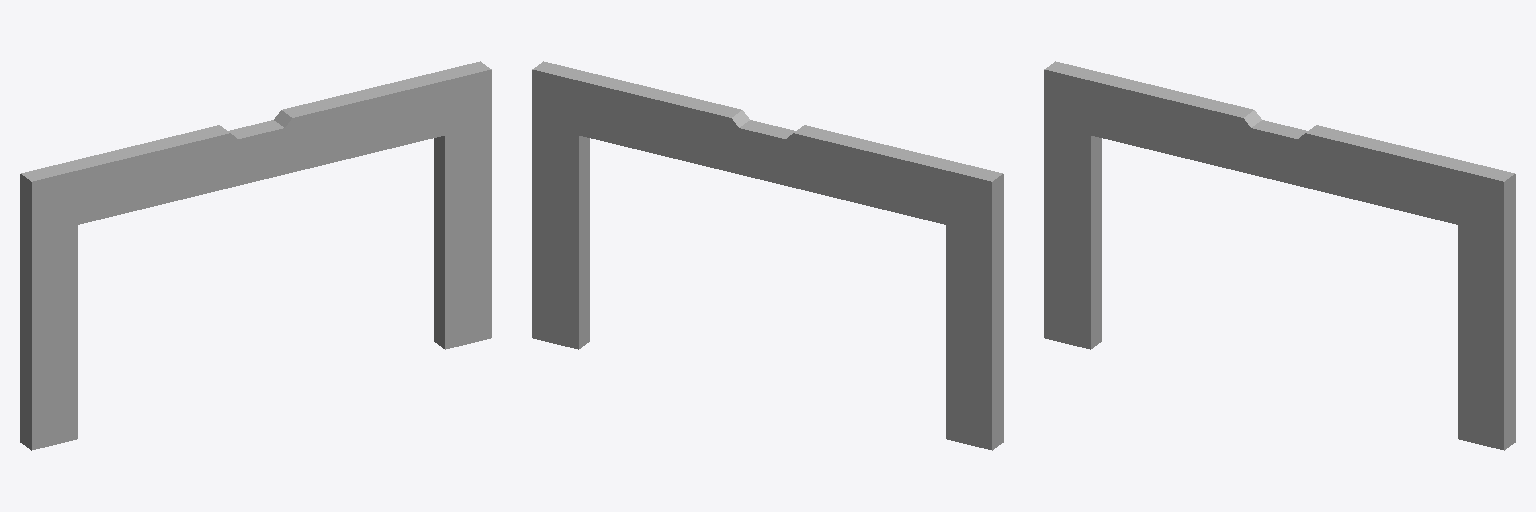
The robot description file, URDF, robot "uchida-monitor-leg":
<?xml version="1.0"?>
<robot name="uchida-monitor-leg"
       xmlns:xi="http://www.w3.org/2001/XInclude"
       xmlns:gazebo="http://playerstage.sourceforge.net/gazebo/xmlschema/#gz"
       xmlns:model="http://playerstage.sourceforge.net/gazebo/xmlschema/#model"
       xmlns:sensor="http://playerstage.sourceforge.net/gazebo/xmlschema/#sensor"
       xmlns:body="http://playerstage.sourceforge.net/gazebo/xmlschema/#body"
       xmlns:geom="http://playerstage.sourceforge.net/gazebo/xmlschema/#geom"
       xmlns:joint="http://playerstage.sourceforge.net/gazebo/xmlschema/#joint"
       xmlns:interface="http://playerstage.sourceforge.net/gazebo/xmlschema/#interface"
       xmlns:rendering="http://playerstage.sourceforge.net/gazebo/xmlschema/#rendering"
       xmlns:renderable="http://playerstage.sourceforge.net/gazebo/xmlschema/#renderable"
       xmlns:controller="http://playerstage.sourceforge.net/gazebo/xmlschema/#controller"
       xmlns:physics="http://playerstage.sourceforge.net/gazebo/xmlschema/#physics">
  <gazebo>
    <static>false</static>
  </gazebo>
  <link name="nil_link">
    <visual>
      <origin xyz="0 0 0" rpy="0 -0 0"/>
      <geometry>
        <mesh filename="model://uchida-monitor-leg/meshes/nil_link_mesh.dae" scale="1 1 1" />
      </geometry>
    </visual>
    <collision>
      <origin xyz="0 0 0" rpy="0 -0 0"/>
      <geometry>
        <mesh filename="model://uchida-monitor-leg/meshes/nil_link_mesh.dae" scale="1 1 1" />
      </geometry>
    </collision>
    <inertial>
      <mass value="0.001" />
      <origin xyz="0 0 0" rpy="0 -0 0"/>
      <inertia ixx="1e-09" ixy="0" ixz="0" iyy="1e-09" iyz="0" izz="1e-09"/>
    </inertial>
  </link>
  <gazebo reference="nil_link">
    <mu1>0.9</mu1>
    <mu2>0.9</mu2>
  </gazebo>
</robot>

--- Render facts (derived) ---
Views: 3 orthographic renders of the robot side by side, from view 1: azimuth 30°, elevation 25°; view 2: azimuth 150°, elevation 25°; view 3: azimuth 330°, elevation 25°.
Robot: uchida-monitor-leg — 1 links, 0 joints (none); root link nil_link; default pose: all joints at 0.
Links seen in each view (by area): view 1: nil_link; view 2: nil_link; view 3: nil_link.
Link boxes in pixels (x1=…): nil_link: x1=20, y1=61, x2=491, y2=450; nil_link: x1=532, y1=61, x2=1003, y2=450; nil_link: x1=1044, y1=61, x2=1515, y2=450.
Bounding box of the posed robot: 1.19 × 0.05 × 0.665 m (x, y, z).
Meshes: 1 distinct files referenced, 1 mesh visuals loaded (1 Collada DAE).
